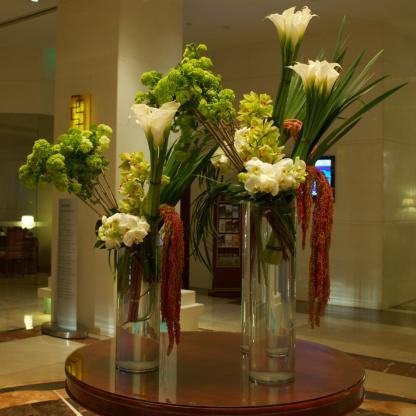vase: (240, 190, 298, 386), (113, 232, 162, 374), (240, 201, 251, 356)
